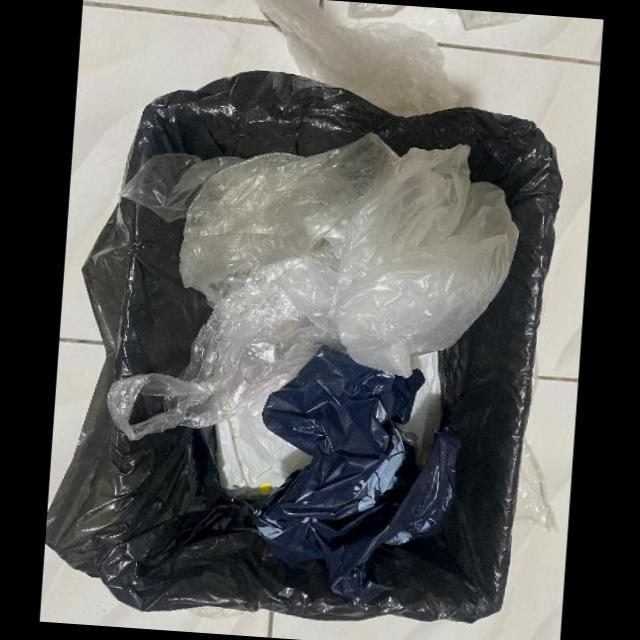tui_ni_long: (105, 129, 519, 438), (254, 346, 459, 590), (251, 0, 464, 115)
